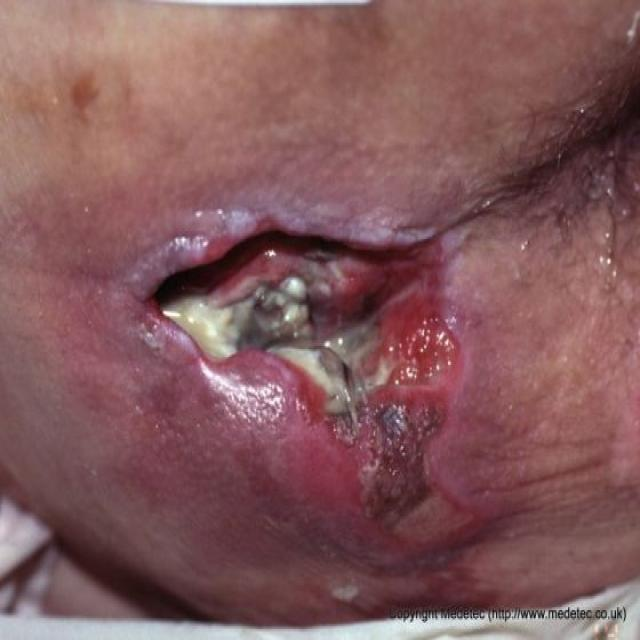stage-4: (153, 227, 458, 532)
